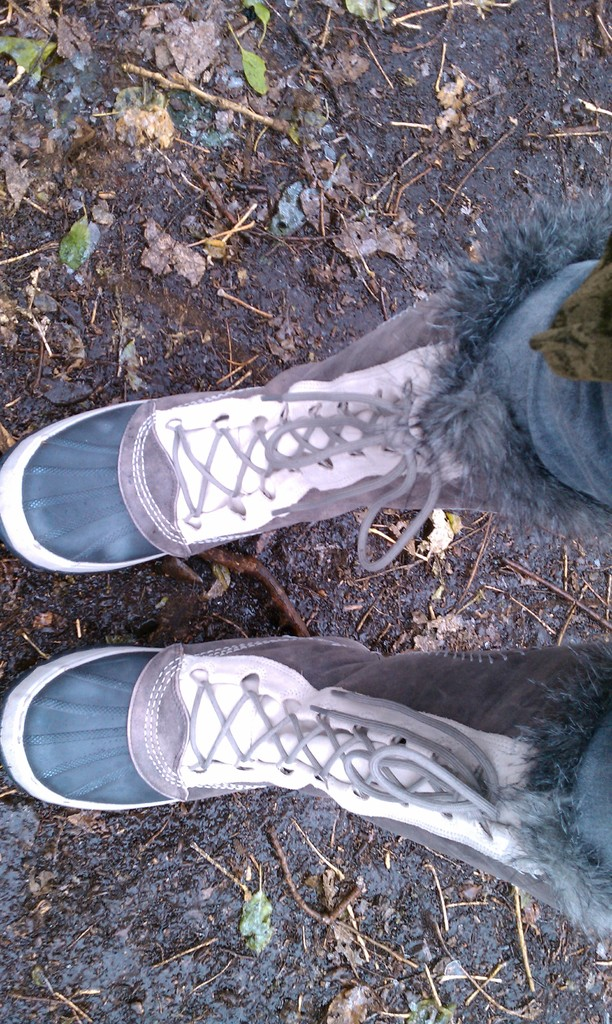Footwear: (0, 181, 611, 582), (0, 627, 581, 905)
